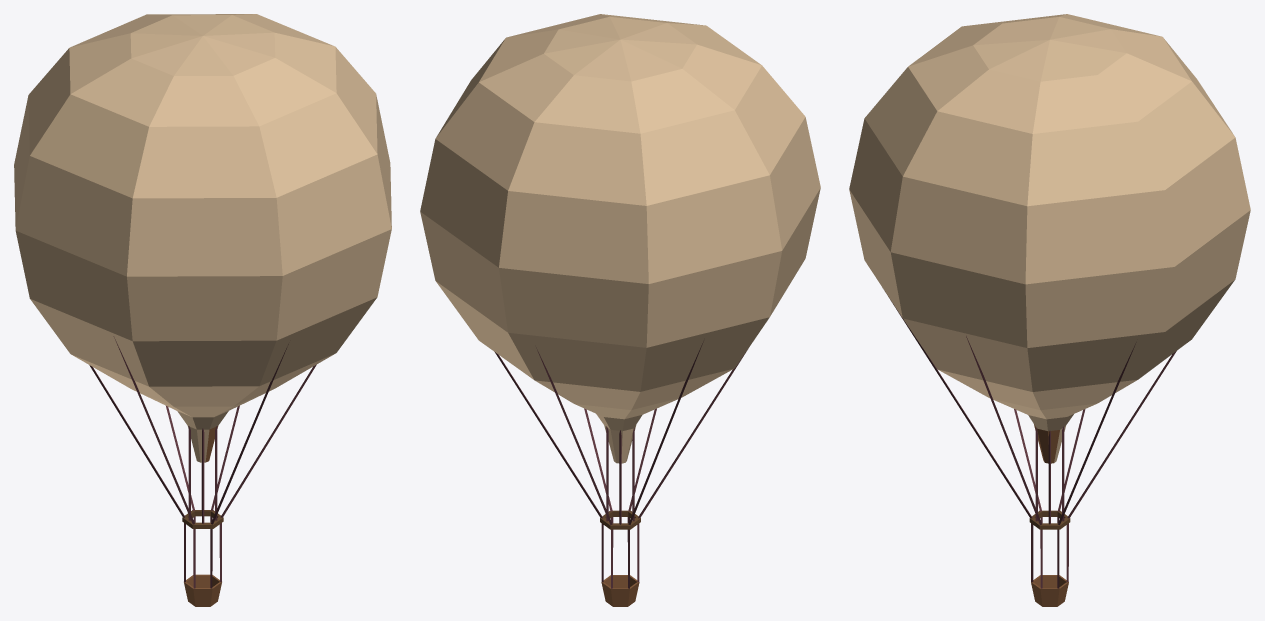
Rendered from balloon-spotter.fbx.
3 views of the same model, side by side, from view 1: azimuth 30°, elevation 25°; view 2: azimuth 150°, elevation 25°; view 3: azimuth 270°, elevation 25° (orthographic).
Visible parts, largest first — view 1: balloon-spotter; view 2: balloon-spotter; view 3: balloon-spotter.
Part boxes in pixels (bbox=[...]): balloon-spotter: bbox=[14, 14, 391, 606]; balloon-spotter: bbox=[420, 14, 820, 606]; balloon-spotter: bbox=[849, 14, 1250, 606].
Size of the model in its own units: 11.91 by 18.38 by 11.91.
